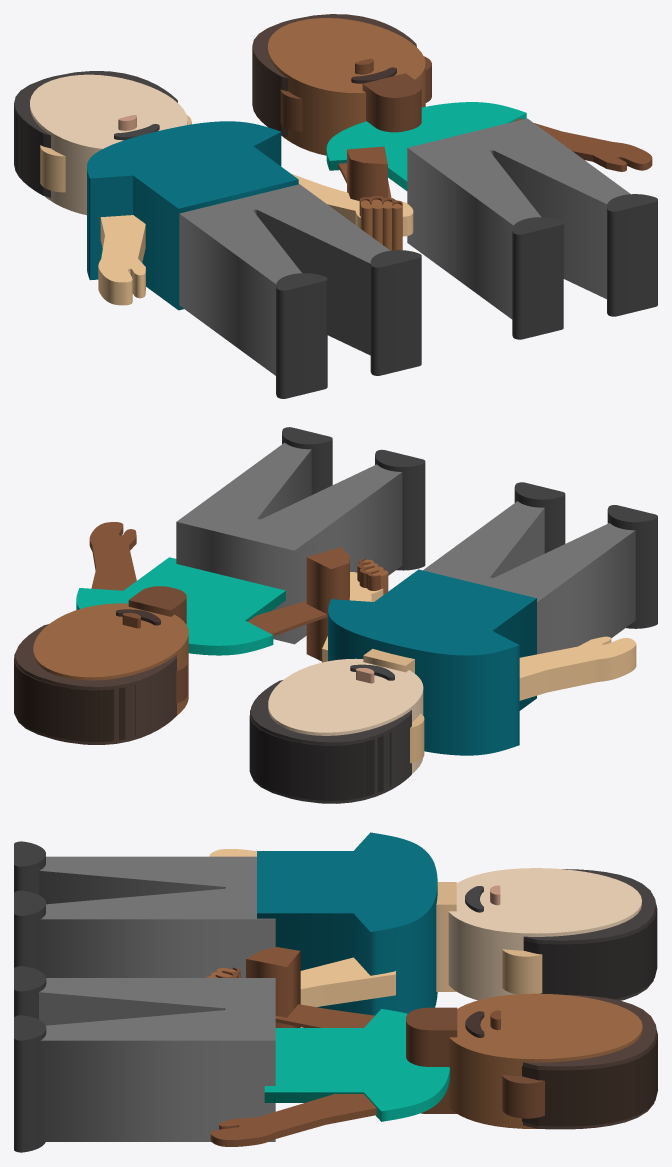
File: emoji_u1f468_1f3fb_200d_1f91d_200d_1f468_1f3fe.glb
3 renders of one model, top to bottom at view 1: azimuth 30°, elevation 25°; view 2: azimuth 150°, elevation 25°; view 3: azimuth 270°, elevation 25°, orthographic. The views are drawn at different scales.
Parts seen in each view (by area): view 1: emoji_u1f468_1f3fb_200d_1f91d_200d_1f468_1f3fe; view 2: emoji_u1f468_1f3fb_200d_1f91d_200d_1f468_1f3fe; view 3: emoji_u1f468_1f3fb_200d_1f91d_200d_1f468_1f3fe.
Boxes of the visible parts, left/top/right/bottom form: emoji_u1f468_1f3fb_200d_1f91d_200d_1f468_1f3fe: left=14, top=14, right=657, bottom=398; emoji_u1f468_1f3fb_200d_1f91d_200d_1f468_1f3fe: left=14, top=427, right=657, bottom=803; emoji_u1f468_1f3fb_200d_1f91d_200d_1f468_1f3fe: left=14, top=832, right=657, bottom=1152.
Bounding box in the file's own units: 0.0346 × 0.0066 × 0.0334.
